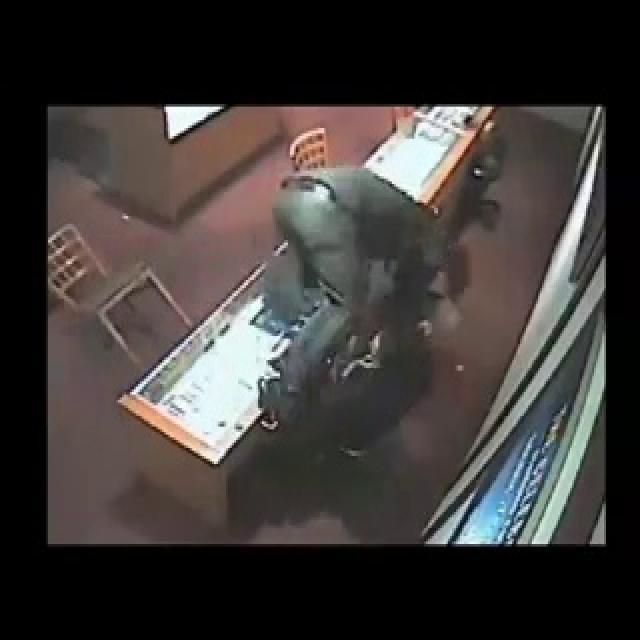Shoplifting: (239, 148, 511, 484)
